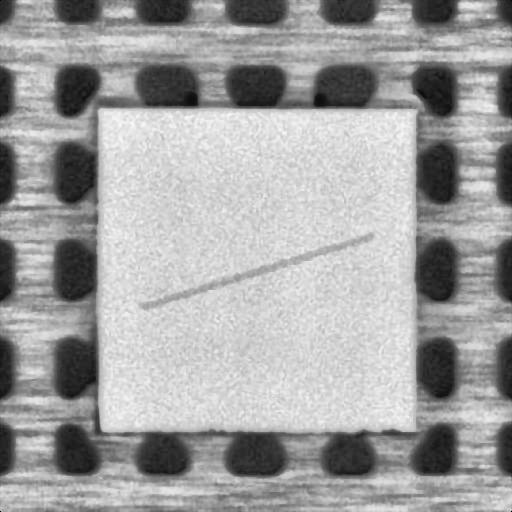DIE_CRACK: (144, 230, 378, 301)
